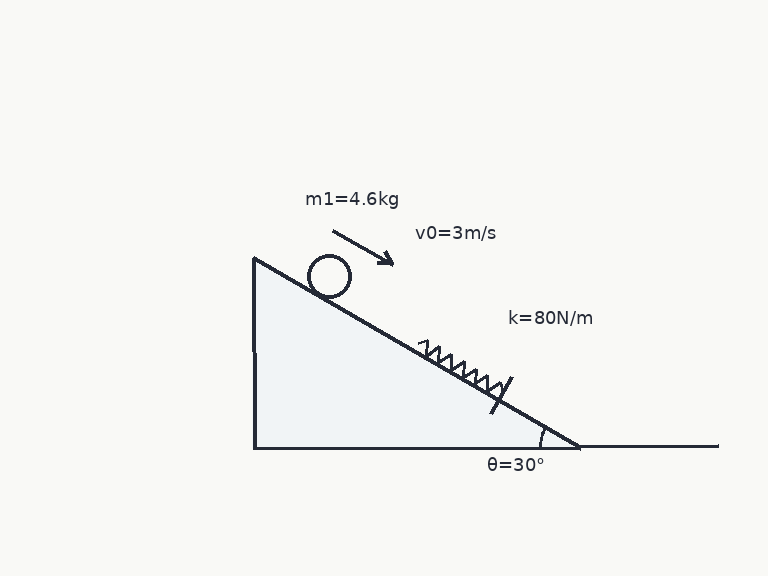ball: (305, 252, 353, 300)
ramp: (251, 256, 582, 449)
spring: (416, 338, 505, 394)
